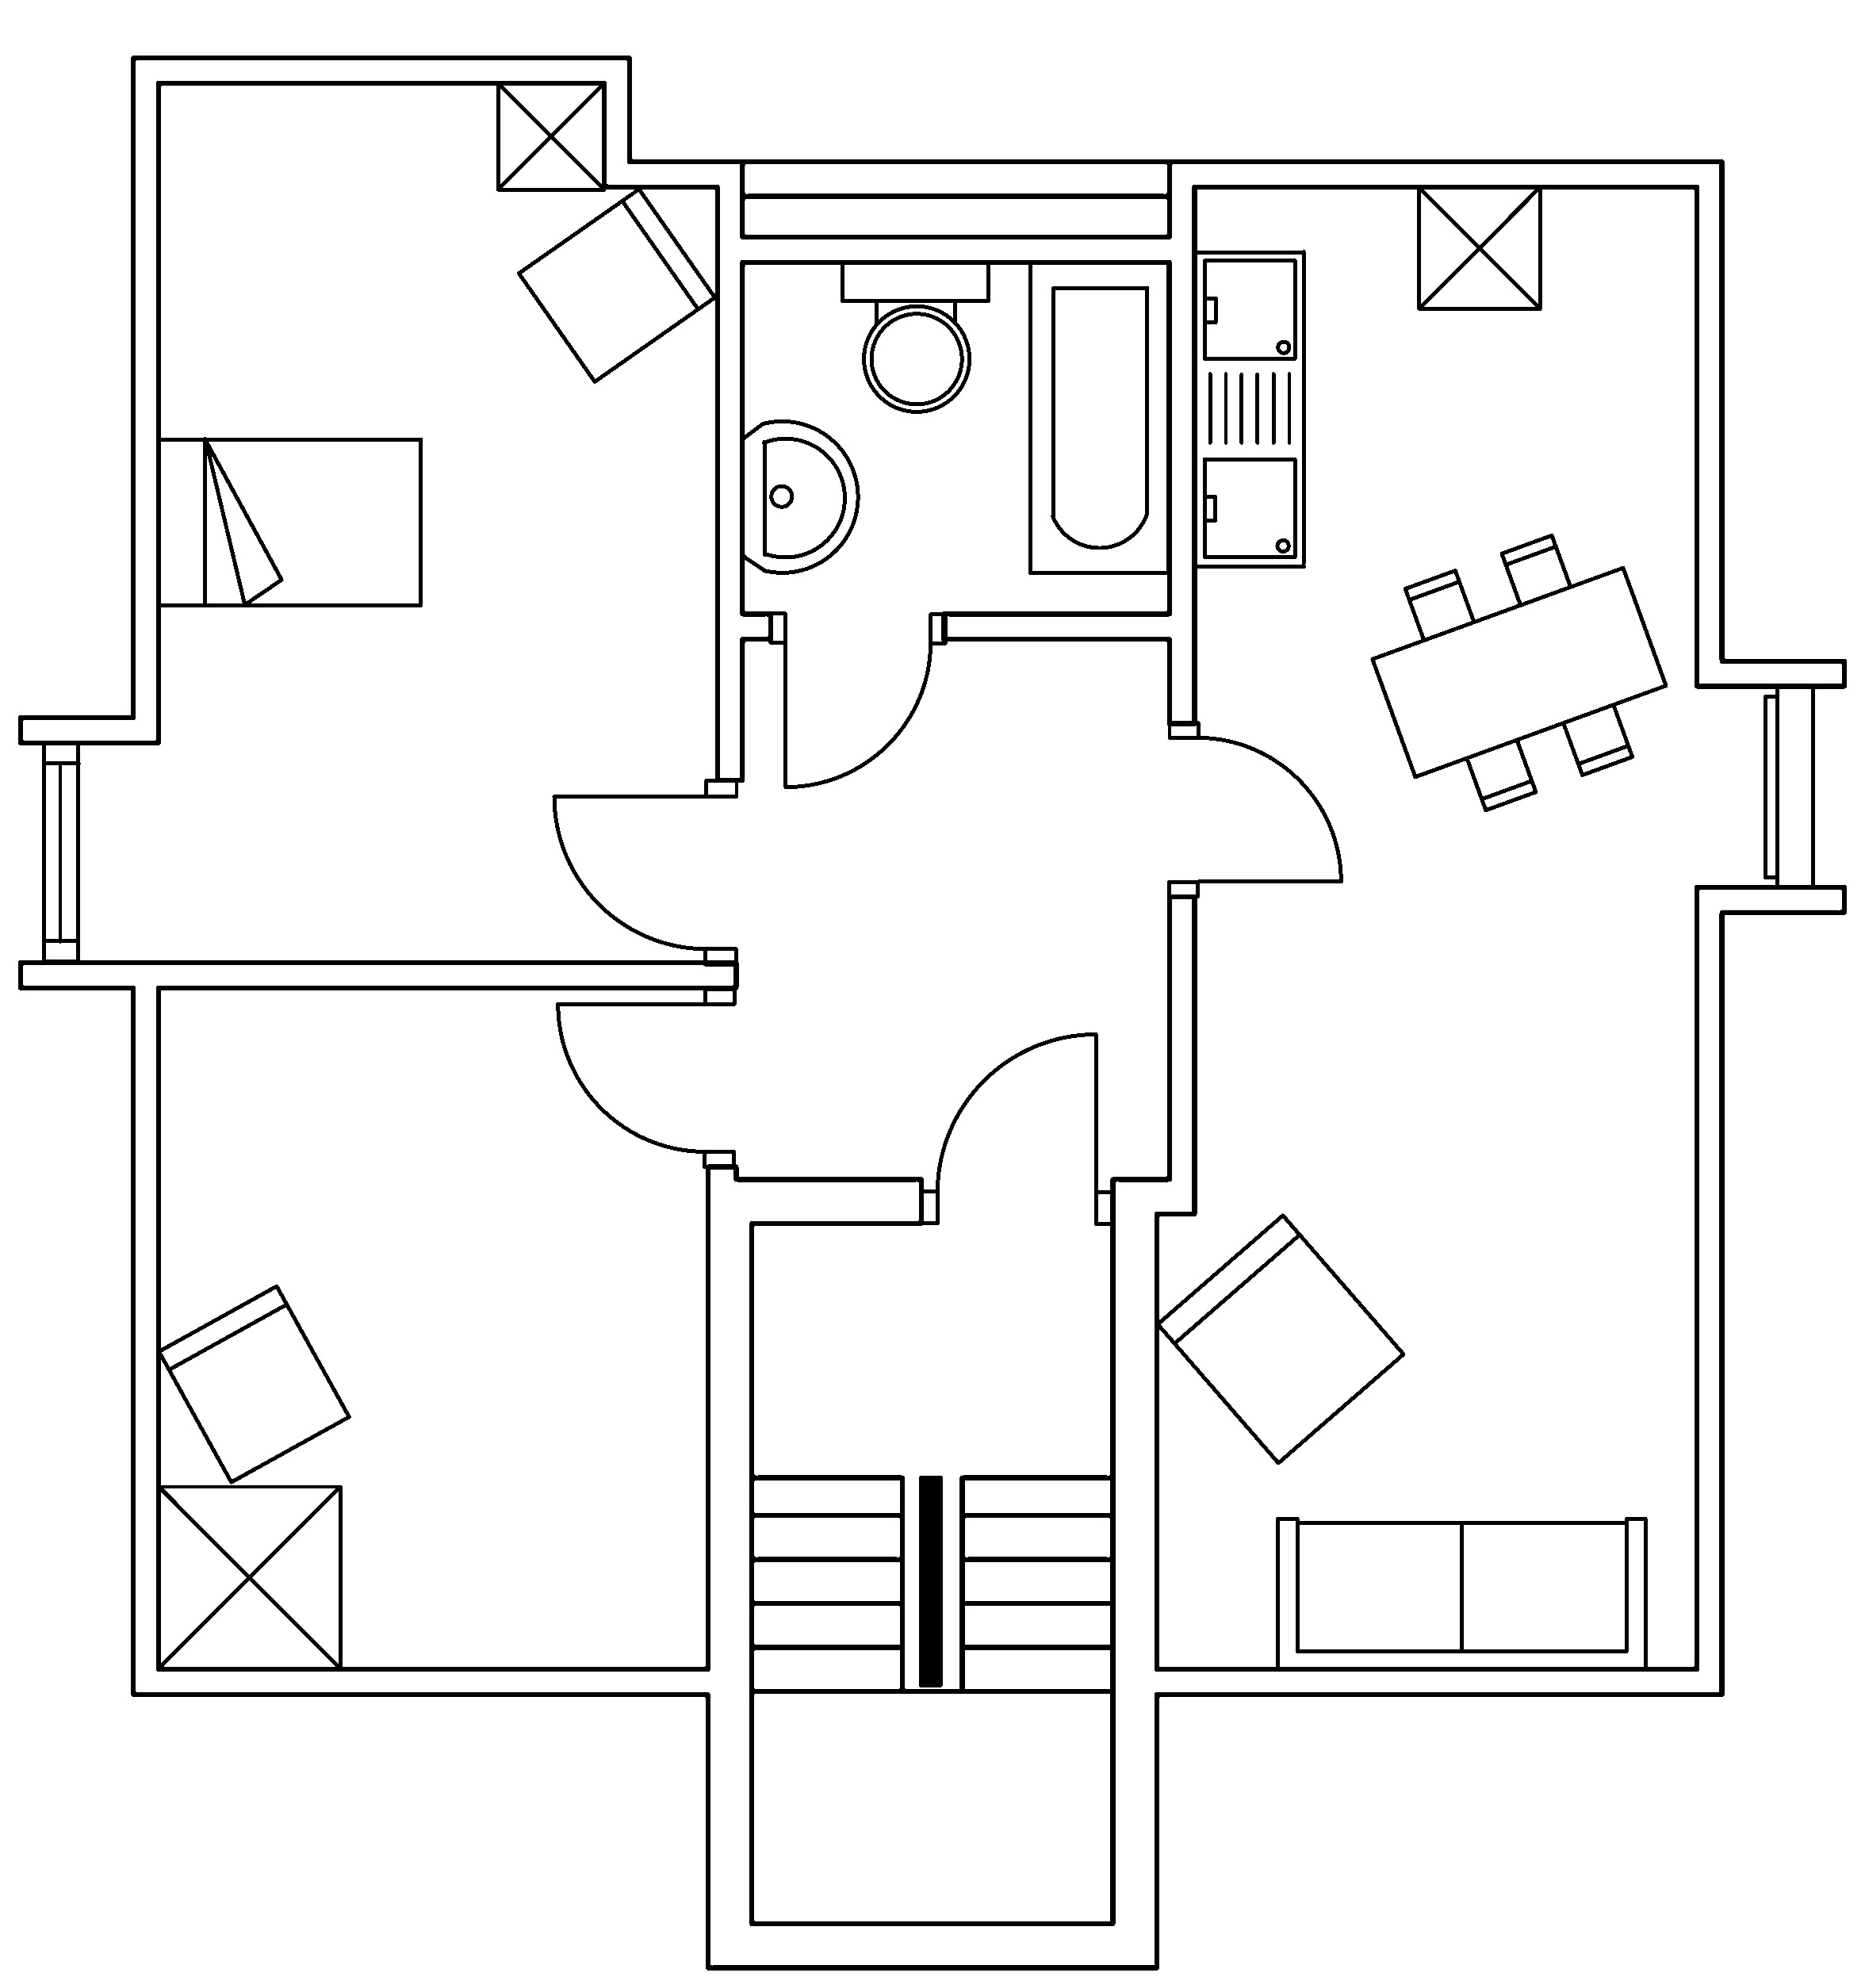bed: (154, 435, 424, 608)
coffee_table: (154, 1481, 342, 1671), (1416, 182, 1542, 310), (494, 79, 606, 191)
dining_table: (1369, 531, 1669, 813)
large_sink: (840, 258, 990, 412)
large_sofa: (1274, 1515, 1648, 1672)
small_sink: (740, 419, 859, 573)
small_sofa: (1153, 1211, 1406, 1466), (515, 186, 717, 384), (156, 1282, 351, 1485)
tub: (1027, 258, 1171, 575)
twin_sink: (1192, 247, 1308, 570)
